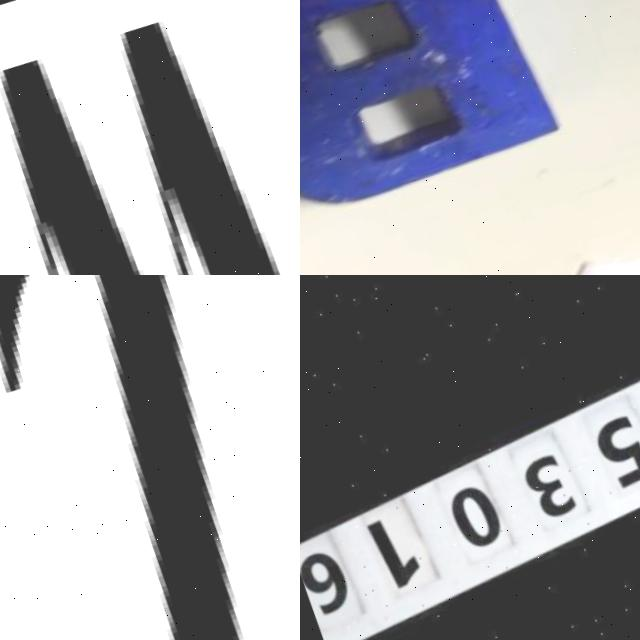0: (435, 457, 529, 570)
1: (359, 494, 451, 601)
3: (514, 429, 602, 535)
5: (582, 386, 640, 504)
6: (300, 528, 378, 632)
B: (300, 0, 579, 250)
L: (0, 275, 300, 640)
W: (0, 0, 300, 275)
